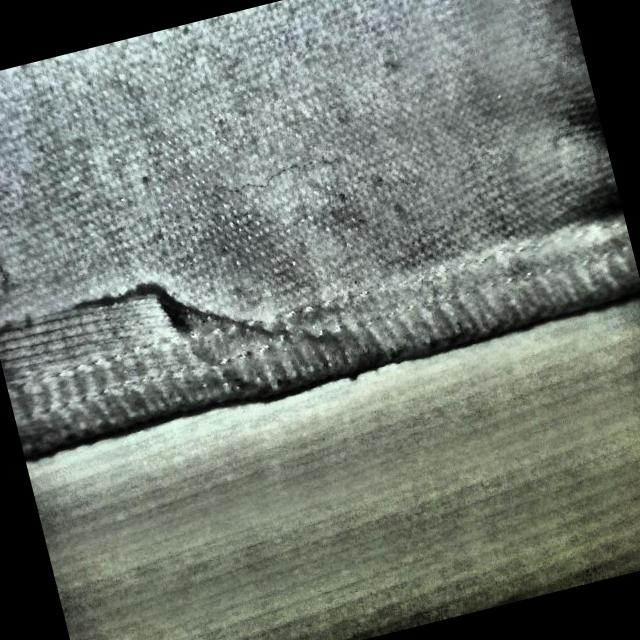gray stitch: (0, 232, 311, 461)
